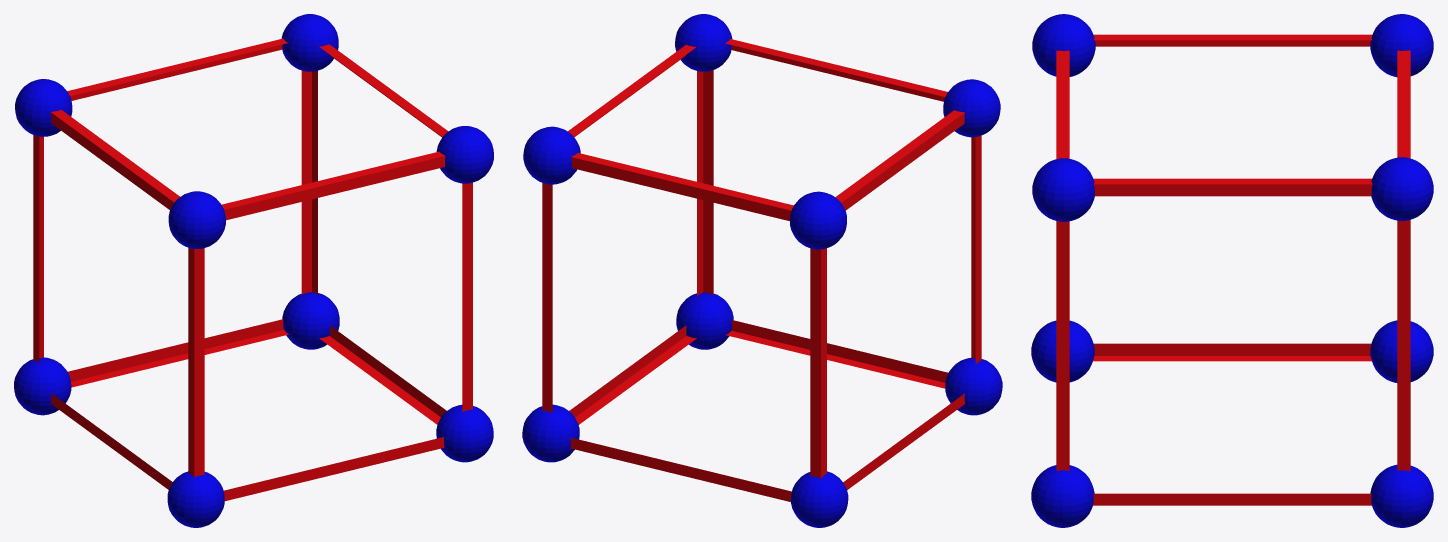
Rendered from cubo-vertice.glb.
3 renders of one model, left to right at view 1: azimuth 30°, elevation 25°; view 2: azimuth 150°, elevation 25°; view 3: azimuth 270°, elevation 25°, orthographic. The views are drawn at different scales.
Parts seen in each view (by area): view 1: Cube, Sphere.006, Sphere.001, Sphere, Sphere.007, Sphere.002, Sphere.004, Sphere.003, Sphere.005; view 2: Cube, Sphere.005, Sphere.002, Sphere.004, Sphere.003, Sphere.001, Sphere.007, Sphere, Sphere.006; view 3: Cube, Sphere.007, Sphere.004, Sphere, Sphere.003, Sphere.005, Sphere.006, Sphere.001, Sphere.002.
Part boxes in pixels (box(x1,y1,x2,y2)): Cube: box(33, 38, 472, 501); Sphere.006: box(168, 191, 225, 248); Sphere.001: box(167, 471, 224, 527); Sphere: box(436, 404, 493, 462); Sphere.007: box(436, 126, 493, 183); Sphere.002: box(14, 357, 71, 415); Sphere.004: box(281, 14, 338, 71); Sphere.003: box(282, 292, 339, 349); Sphere.005: box(15, 79, 72, 136); Cube: box(542, 39, 981, 501); Sphere.005: box(790, 191, 846, 249); Sphere.002: box(791, 471, 848, 527); Sphere.004: box(523, 126, 580, 184); Sphere.003: box(522, 404, 579, 462); Sphere.001: box(945, 358, 1002, 415); Sphere.007: box(675, 14, 732, 71); Sphere: box(676, 292, 733, 349); Sphere.006: box(943, 79, 1000, 137); Cube: box(1056, 34, 1410, 505); Sphere.007: box(1032, 158, 1094, 221); Sphere.004: box(1371, 157, 1433, 220); Sphere: box(1031, 465, 1094, 527); Sphere.003: box(1370, 464, 1433, 527); Sphere.005: box(1370, 14, 1433, 77); Sphere.006: box(1032, 14, 1095, 76); Sphere.001: box(1031, 320, 1094, 382); Sphere.002: box(1370, 320, 1433, 382).
Size of the model in its own units: 1.15 by 1.13 by 1.14.
